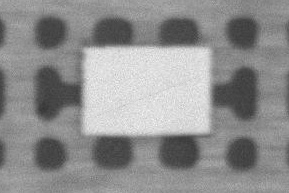DIE_CRACK: (142, 51, 289, 77)
